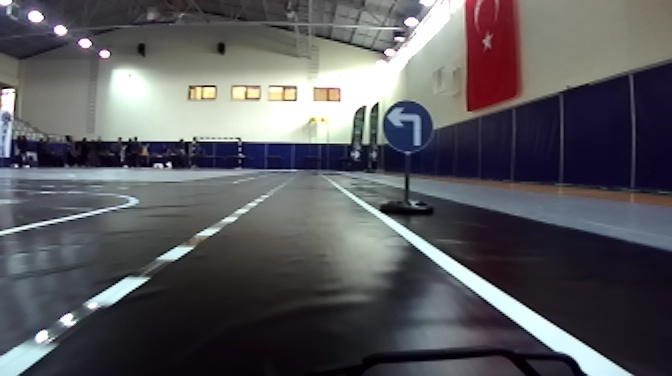sola_donus: (380, 98, 435, 149)
